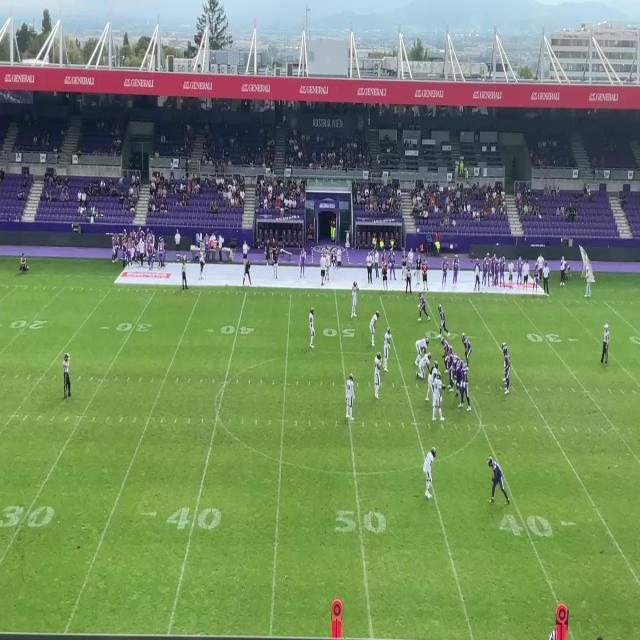3: (0, 501, 34, 534)
4: (496, 510, 526, 541), (166, 502, 191, 539)
5: (334, 504, 357, 537)
american-football-players: (487, 453, 510, 505), (457, 360, 471, 411), (423, 445, 435, 497), (432, 371, 444, 422), (425, 361, 439, 402), (374, 351, 384, 402), (503, 346, 513, 396), (345, 373, 355, 422), (418, 290, 432, 324), (381, 330, 392, 371), (307, 307, 317, 351), (452, 353, 464, 389), (416, 353, 431, 380), (369, 308, 379, 347), (462, 334, 473, 368), (449, 352, 462, 380), (438, 305, 449, 336), (500, 340, 508, 380), (415, 336, 429, 358), (351, 279, 358, 321), (441, 337, 452, 360)
